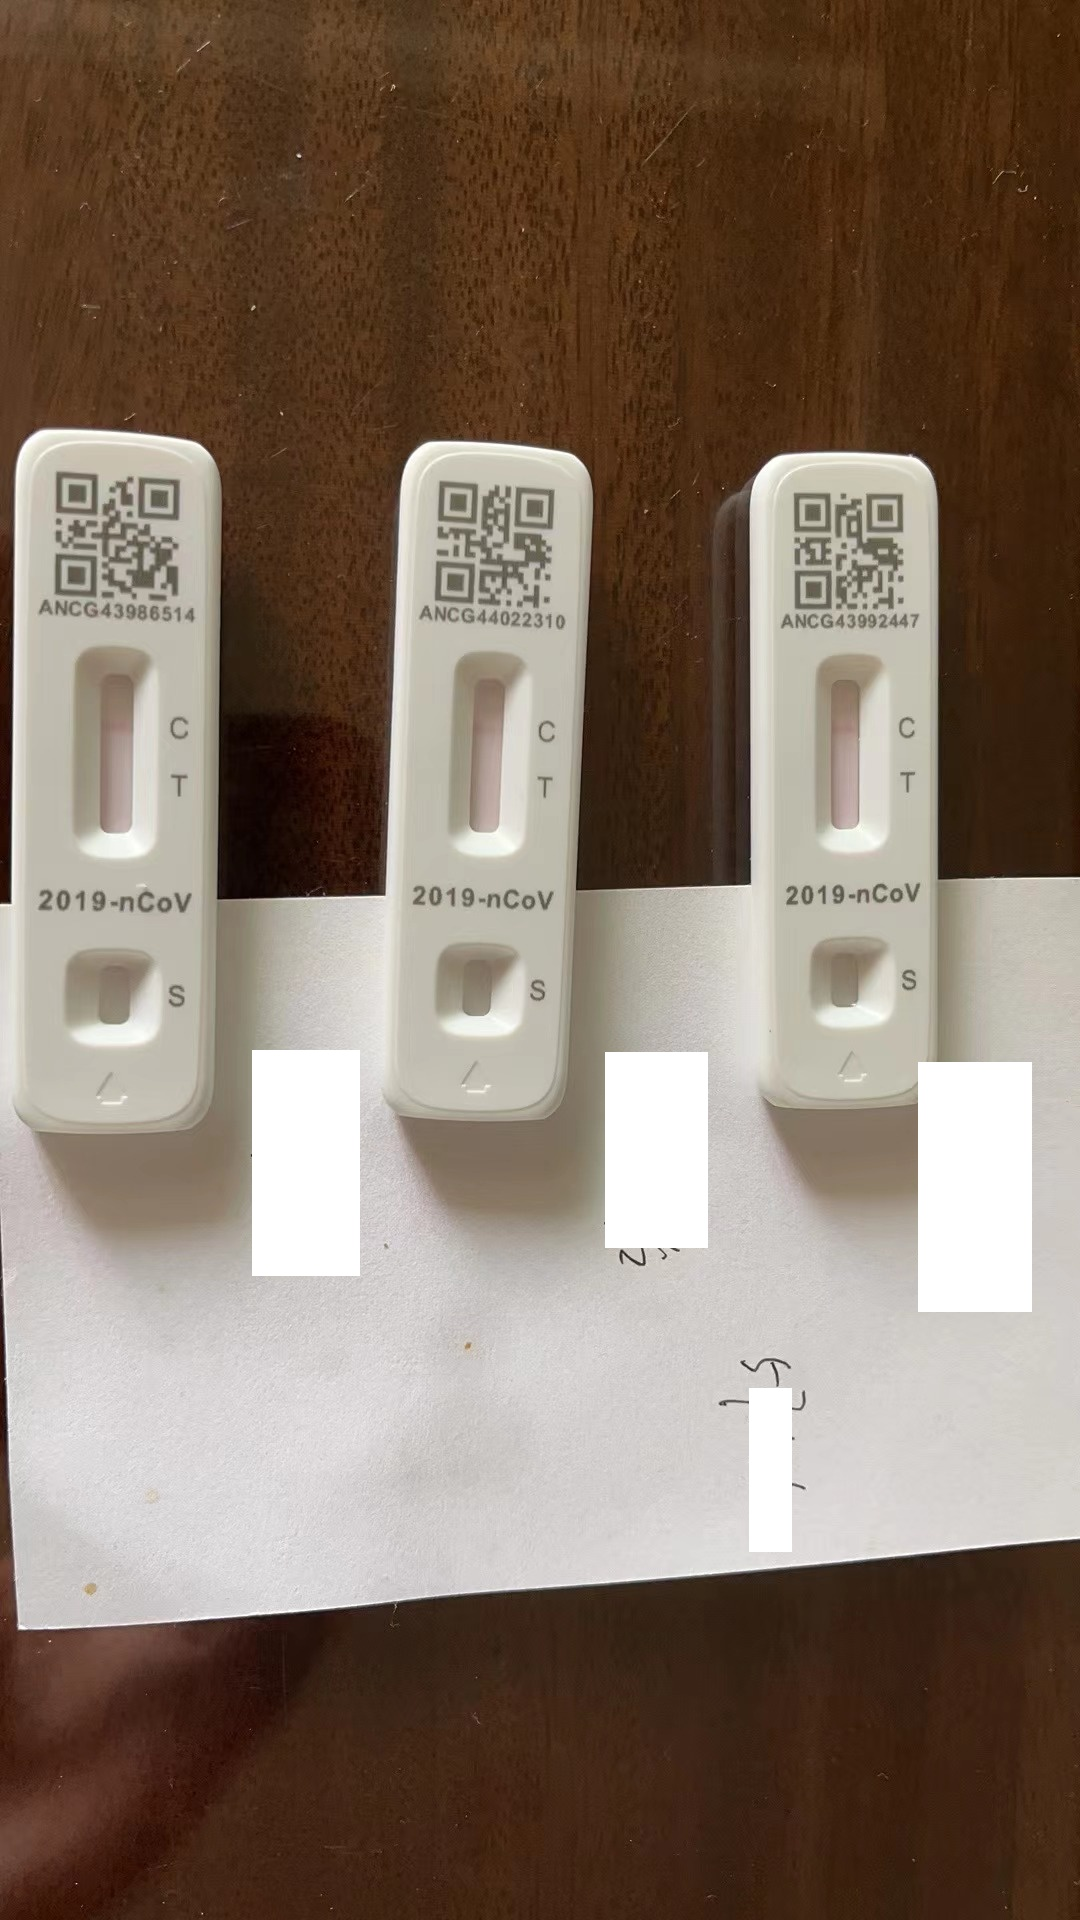negative: (71, 641, 158, 855), (447, 651, 527, 857), (812, 655, 885, 852)
